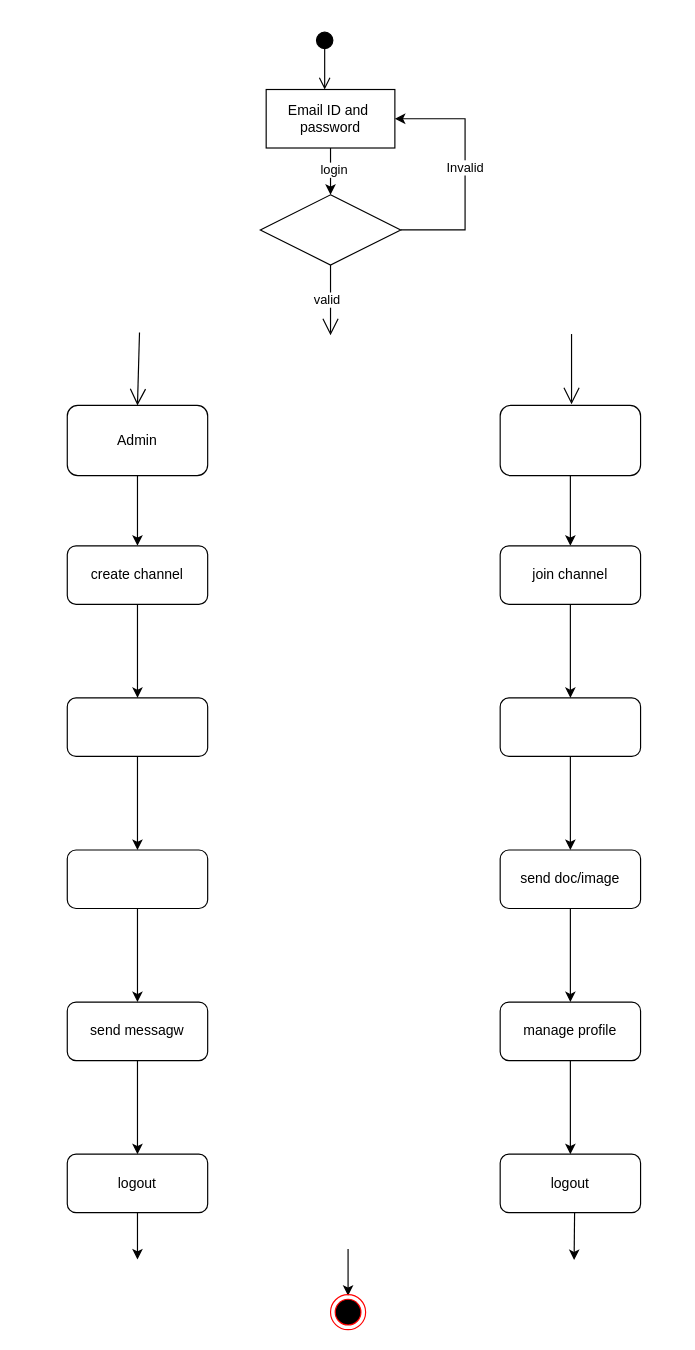
Image size: 695x1350. Some labels were removed from this diagram. The centre of each missing label's shape, as x and y in pixels:
invite user: the point at 137,726
send message: the point at 570,726
User: the point at 570,440
view/ manage user: the point at 137,879
